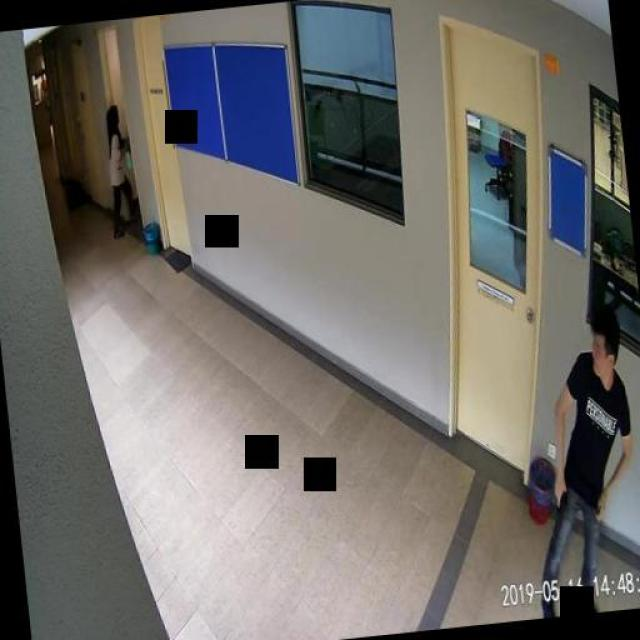gun: (548, 488, 568, 536)
